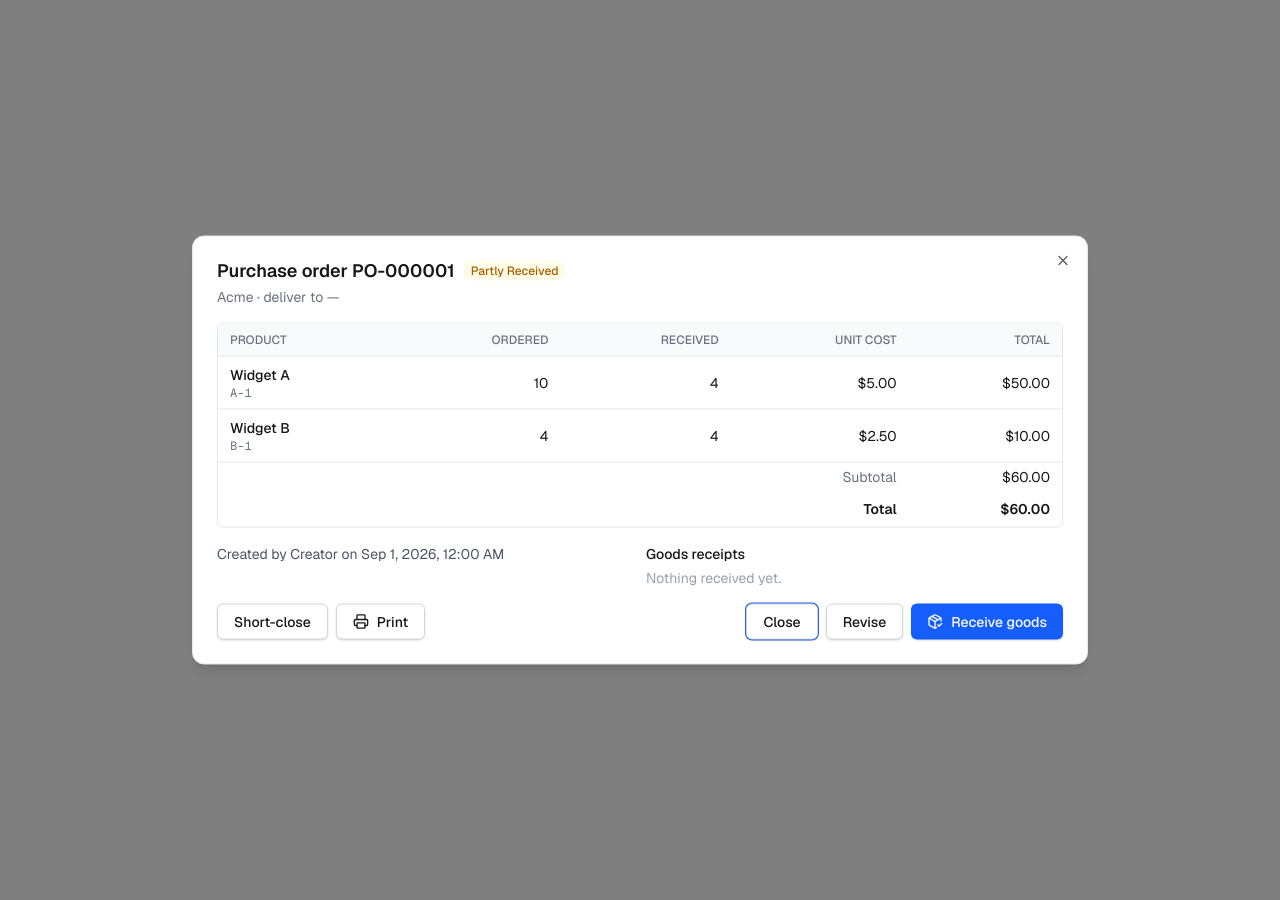
PurchaseOrderDetailDialog › short-closes a partly received order with a reason
Step 1. Click the button "Short-close" → (272, 622), box top-left (217, 604), bottom-right (328, 640)
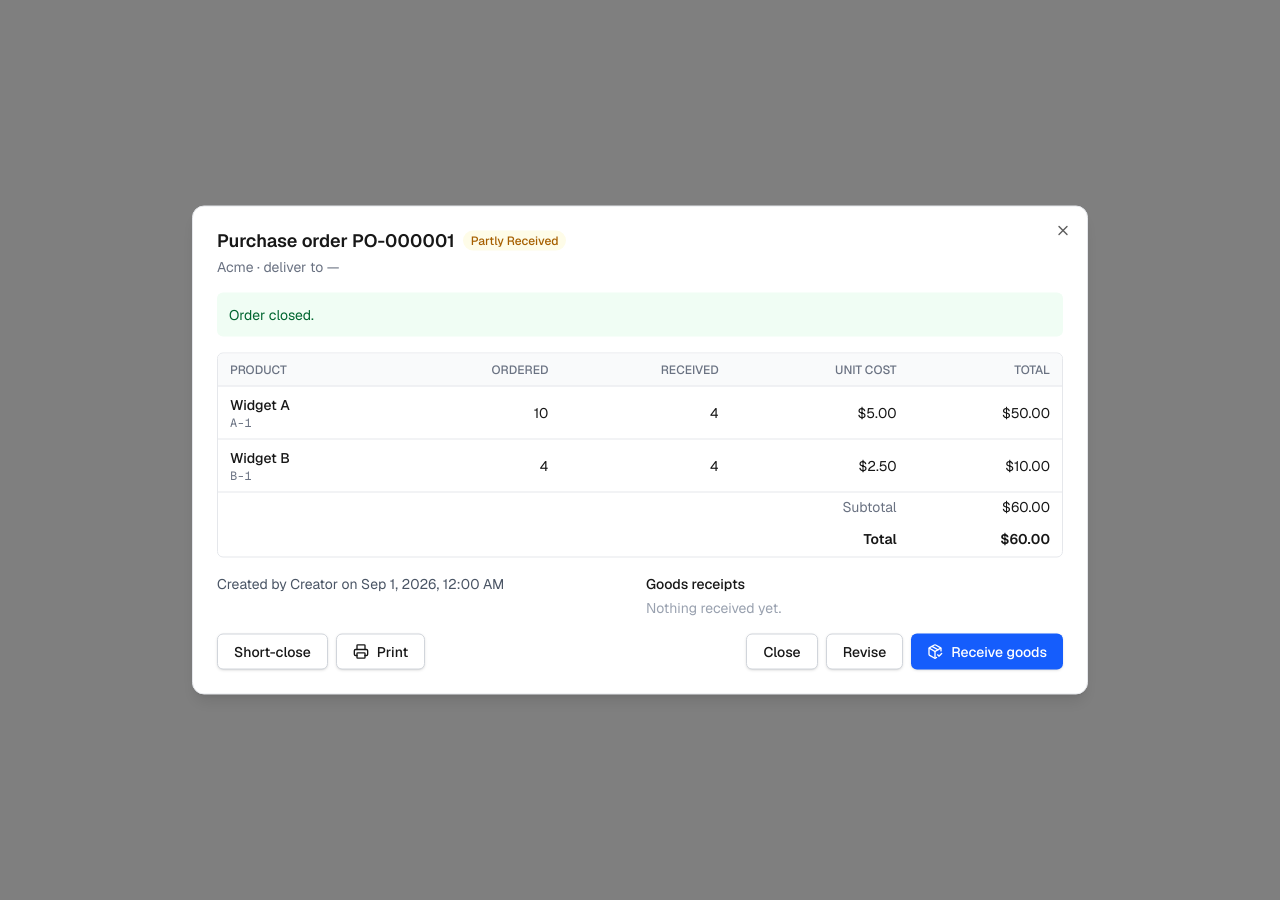
Now the text "Order closed." is shown, box top-left (217, 292), bottom-right (1063, 336)
